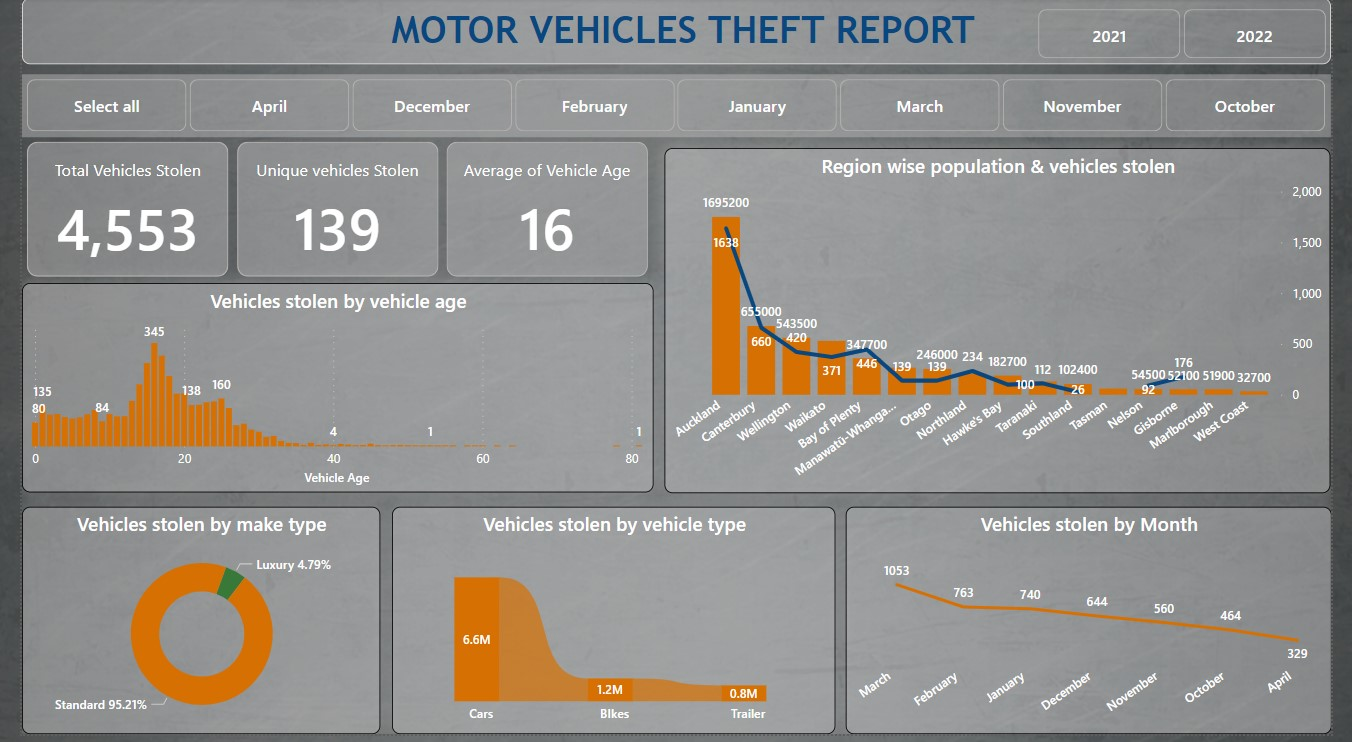

What the dashboard file says about the page in this screenshot:
{"tool":"powerbi","page":{"name":"Home","canvas":[1280,720],"ordinal":0},"visuals":[{"type":"textbox","box":[0,0,1280,65],"z":0},{"type":"donutChart","title":"Vehicles stolen by make type","fields":{"Y":["CountNonNull(stolen_vehicles.make_id)"],"Series":["make_details.make_type"]},"box":[0,497.5,350,222.5],"z":1000},{"type":"ribbonChart","title":"Vehicles stolen by vehicle type","fields":{"Category":["stolen_vehicles.vehicle_type (groups)"],"Y":["Sum(stolen_vehicles.vehicle_id)"]},"box":[361.2,497.5,433.8,222.5],"z":2000},{"type":"cardVisual","fields":{"Data":["CountNonNull(stolen_vehicles.vehicle_id)","Count(stolen_vehicles.make_id)","Avg(stolen_vehicles.Vehicle Age)"]},"box":[0,136.2,617.5,142.5],"z":3000},{"type":"columnChart","title":"Vehicles stolen by vehicle age","fields":{"Category":["stolen_vehicles.Vehicle Age"],"Y":["CountNonNull(stolen_vehicles.Vehicle Age)"]},"box":[0,278.8,617.5,205],"z":4000},{"type":"lineClusteredColumnComboChart","title":"Region wise population & vehicles stolen","fields":{"Category":["locations.region"],"Y":["Avg(locations.population)"],"Y2":["CountNonNull(stolen_vehicles.vehicle_id)"]},"box":[628.8,146.2,651.2,337.5],"z":6000},{"type":"advancedSlicerVisual","fields":{"Values":["stolen_vehicles.Month Name"]},"box":[0,75,1280,61.2],"z":7000},{"type":"advancedSlicerVisual","fields":{"Values":["stolen_vehicles.Stolen Year"]},"box":[988.8,6.2,291.2,58.8],"z":8000},{"type":"lineChart","title":"Vehicles stolen by Month","fields":{"Category":["stolen_vehicles.Month Name"],"Y":["CountNonNull(stolen_vehicles.vehicle_id)"]},"box":[805,497.5,475,222.5],"z":9000}]}

Visuals, with their boxes in screenshot pixels (x1, y1, x2, y2), scaled from the page's 1280x720 canvas onto the 1352x742 screenshot:
textbox: 0,0,1351,67
"Vehicles stolen by make type" donutChart: 0,513,370,741
"Vehicles stolen by vehicle type" ribbonChart: 382,513,840,741
cardVisual - CountNonNull(stolen_vehicles.vehicle_id) x Count(stolen_vehicles.make_id): 0,140,652,287
"Vehicles stolen by vehicle age" columnChart: 0,287,652,499
"Region wise population & vehicles stolen" lineClusteredColumnComboChart: 664,151,1351,498
advancedSlicerVisual - stolen_vehicles.Month Name: 0,77,1351,140
advancedSlicerVisual - stolen_vehicles.Stolen Year: 1044,6,1351,67
"Vehicles stolen by Month" lineChart: 850,513,1351,741
